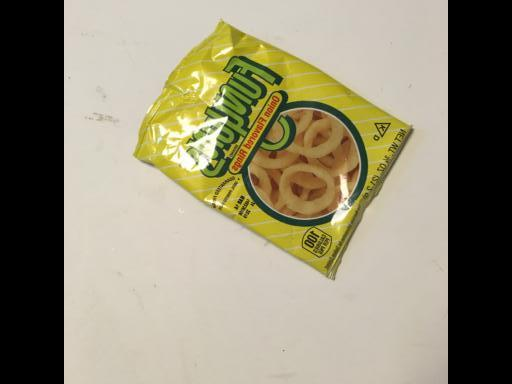trash: (133, 18, 413, 282)
